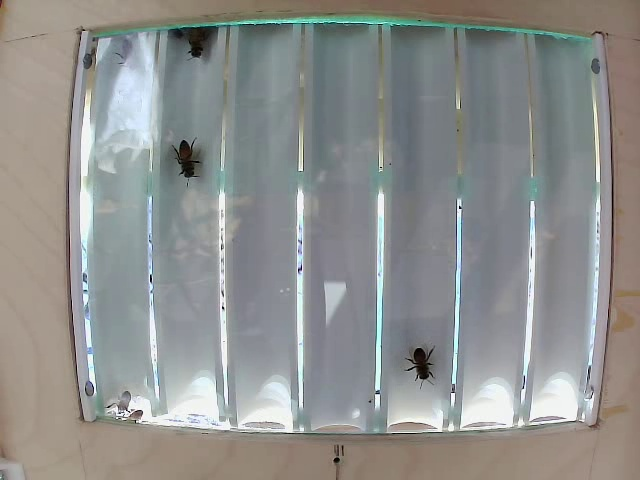bee: (164, 131, 204, 193), (402, 336, 444, 395)
